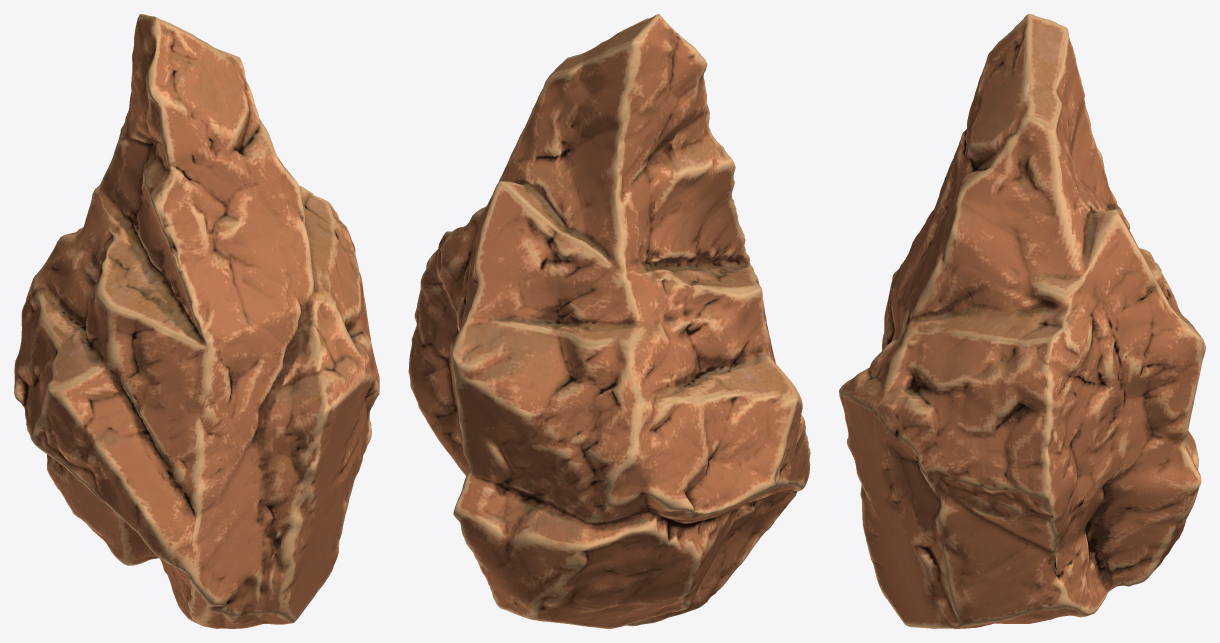
Rendered from cobre.glb.
The picture shows the model from 3 angles, left to right: view 1: azimuth 30°, elevation 25°; view 2: azimuth 150°, elevation 25°; view 3: azimuth 270°, elevation 25°; orthographic projection. The views are drawn at different scales.
Parts seen in each view (by area): view 1: Box001; view 2: Box001; view 3: Box001.
Part boxes in pixels (x1,y1,x2,y2): Box001: (14,14,379,628); Box001: (408,14,810,628); Box001: (839,14,1205,628).
Bounding box in the file's own units: 95.32 × 158 × 89.87.
1 material, 1 textured.
